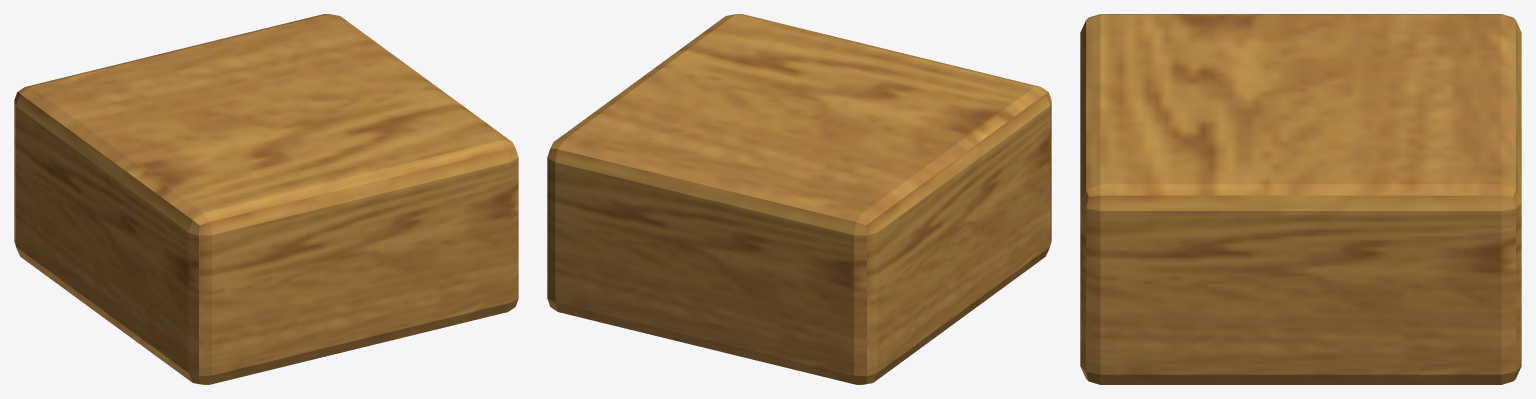
The model's file is BrownHalfCubeSmall.fbx.
3 renders of one model, left to right at view 1: azimuth 30°, elevation 25°; view 2: azimuth 150°, elevation 25°; view 3: azimuth 270°, elevation 25°, orthographic. The views are drawn at different scales.
Visible parts, largest first — view 1: Cube.010; view 2: Cube.010; view 3: Cube.010.
Part boxes in pixels (left/top/right/bottom): Cube.010: left=14, top=14, right=518, bottom=384; Cube.010: left=547, top=14, right=1051, bottom=384; Cube.010: left=1080, top=14, right=1521, bottom=384.
Bounding box in the file's own units: 200 × 100 × 200.
